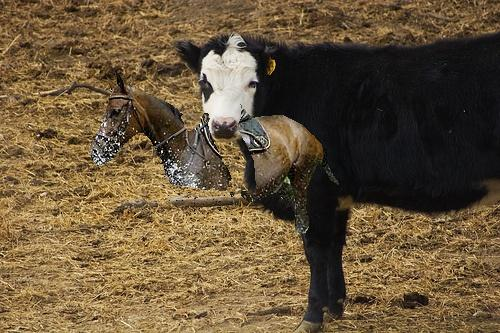tampered: (90, 73, 339, 267)
